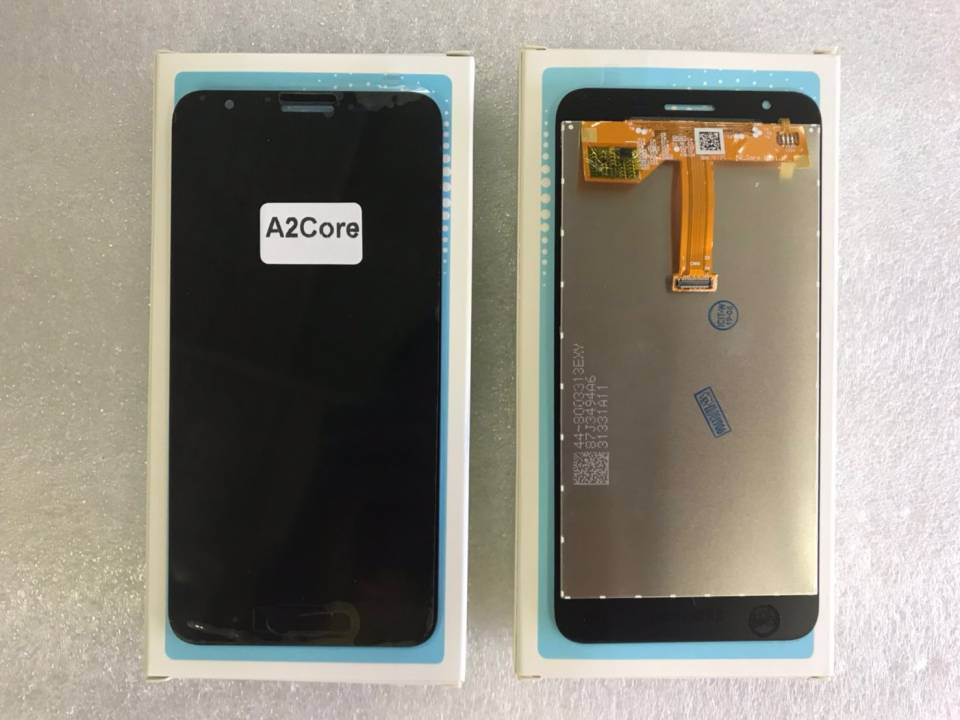Phone: (168, 88, 443, 650), (551, 85, 823, 645)
